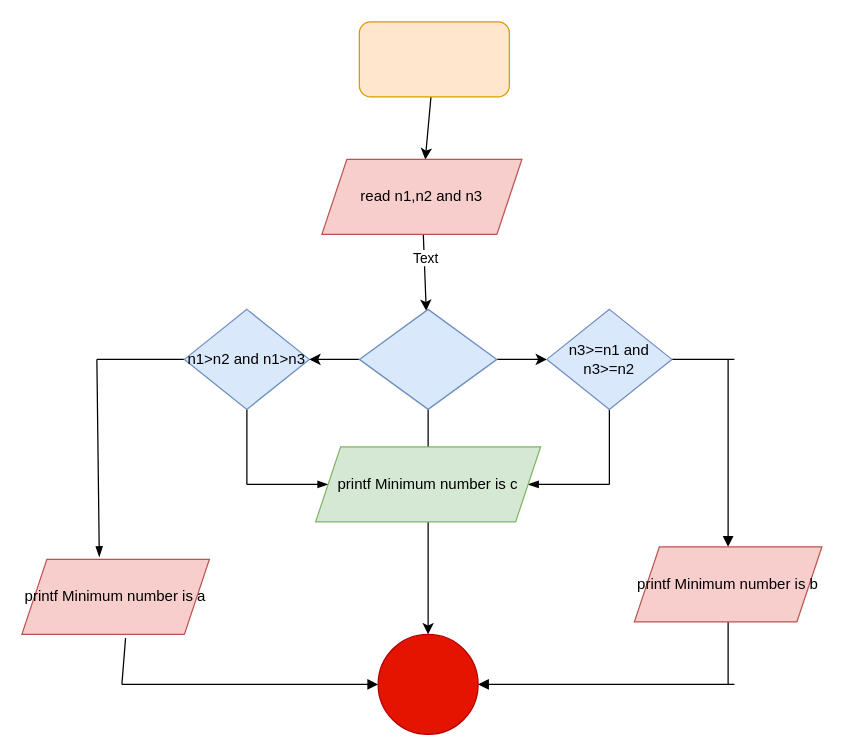
Some shapes in this 844 by 756 pixel diagram are drawn without their labels. The shapes that lost their labels are listed below. From the top down, each one's centre as x and y in pixels, then its label:
At point 433,59: "Starts".
At point 427,358: "n2>=n1 and n2>=n3".
At point 427,683: "Stop".
